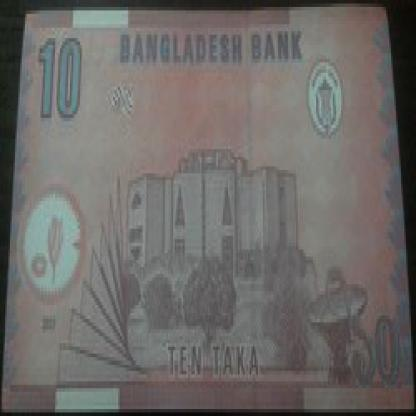Ten Taka: (346, 309, 398, 398), (35, 34, 86, 124)
